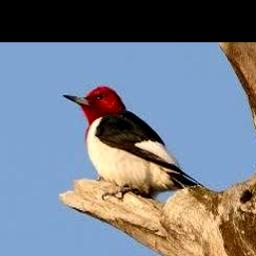Woodpecker: (63, 86, 198, 194)
